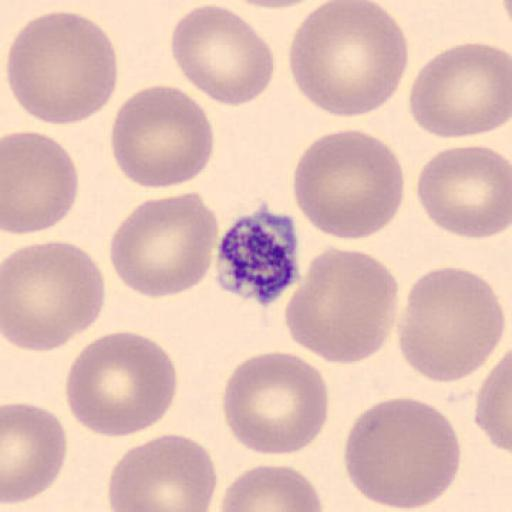Platelet: (227, 201, 304, 307)
RBC: (288, 0, 408, 118), (284, 247, 400, 364), (344, 396, 462, 508), (6, 11, 118, 124), (291, 128, 404, 240), (398, 267, 505, 382), (0, 238, 107, 352), (64, 332, 178, 438), (108, 192, 218, 299), (220, 351, 328, 457), (415, 145, 511, 261), (171, 3, 276, 107), (111, 85, 213, 189), (408, 42, 511, 138), (106, 433, 218, 511), (0, 130, 78, 234), (0, 400, 68, 505), (222, 466, 323, 510), (475, 354, 511, 454)
